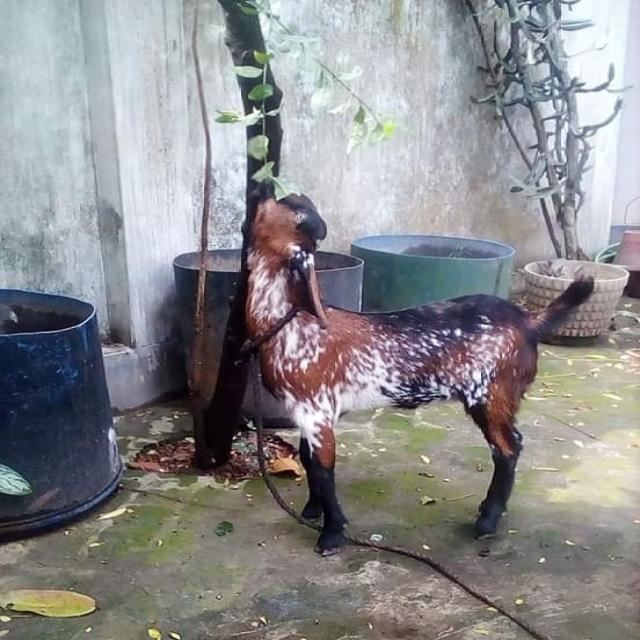Goat: (238, 179, 595, 556)
